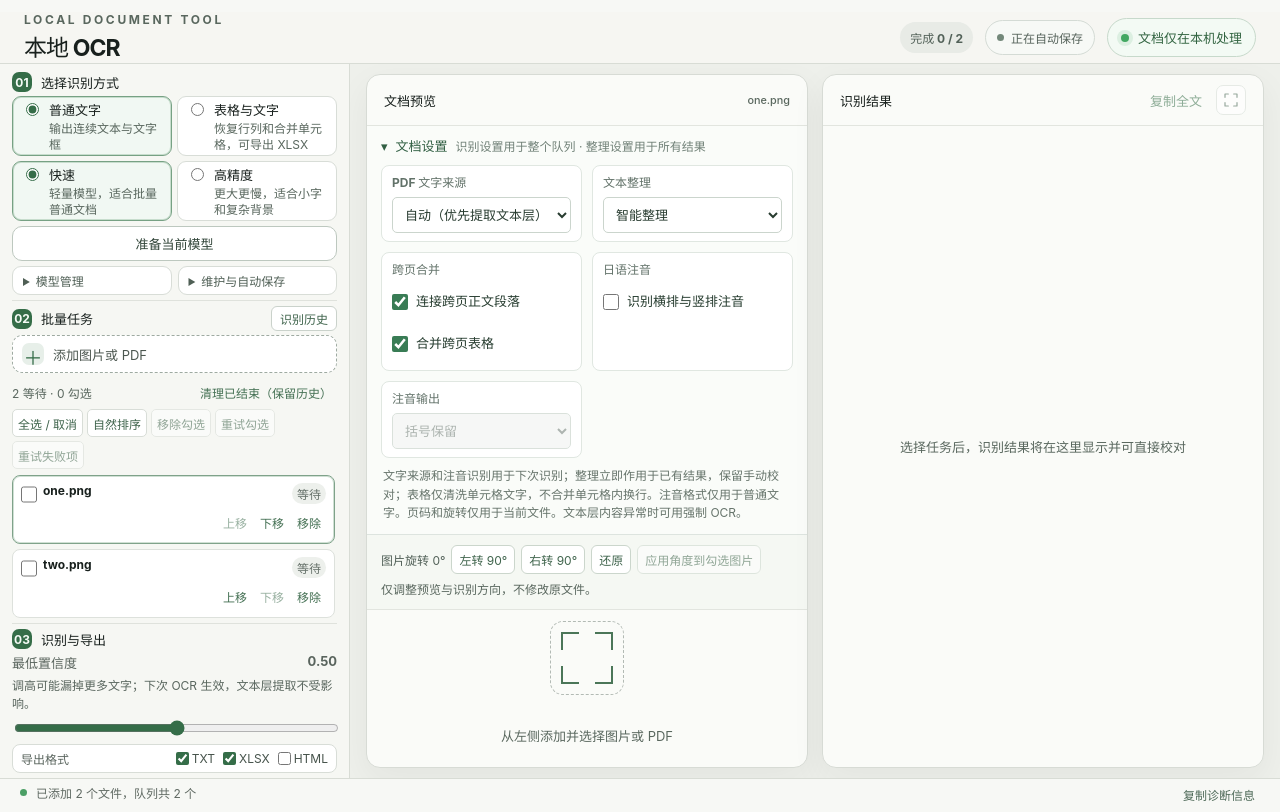
Scenario: batch and recovery interactions › updates queue order before recognition and supports multi-removal
Click the button with aria-label "上移任务" at (235, 596), box [218, 582, 252, 610]
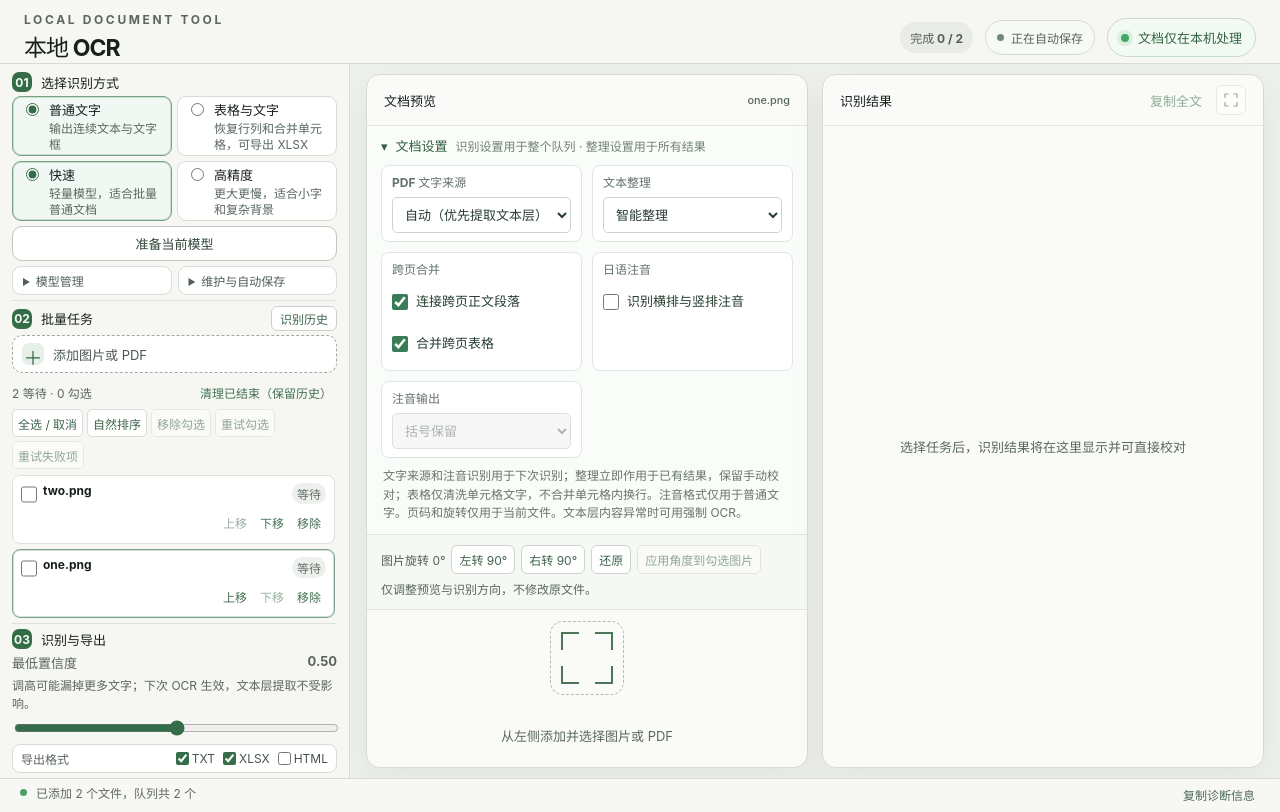
Expected: the text with class "task-name" reads "two.png", [43, 483, 92, 498]
Click the button "全选 / 取消" at (48, 423), box [12, 409, 83, 437]
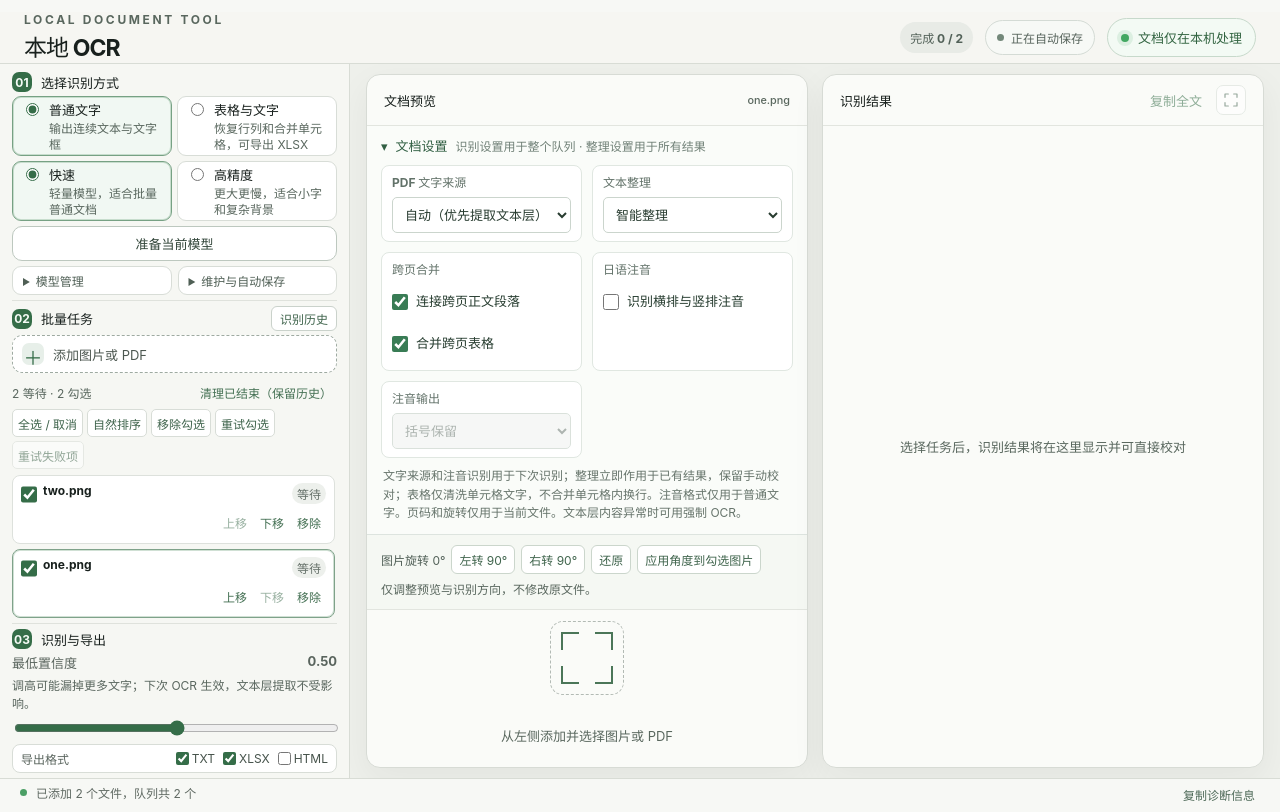
Click the button "移除勾选" at (181, 423), box [151, 409, 211, 437]
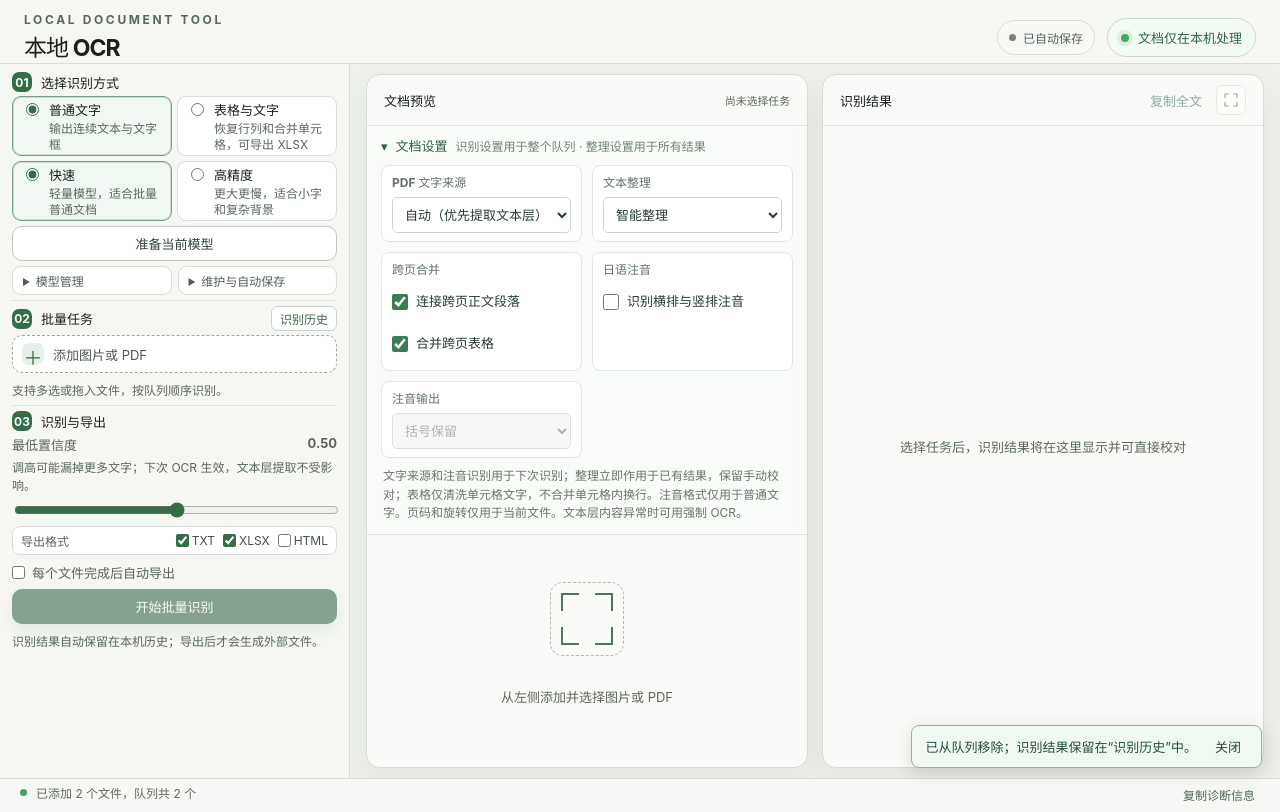
Now no elements with class "task-item" are shown
